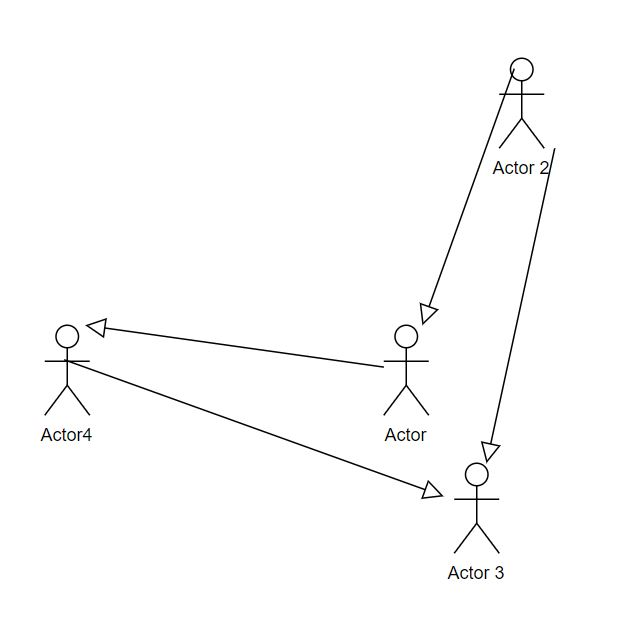actor: (452, 463, 501, 556), (43, 323, 90, 416), (385, 323, 431, 416), (498, 56, 544, 149)
generalization: (65, 359, 443, 497), (481, 148, 558, 461), (423, 70, 513, 323), (86, 317, 385, 369)
text: (31, 423, 99, 447), (444, 561, 507, 583), (491, 158, 551, 175), (383, 427, 431, 446)
